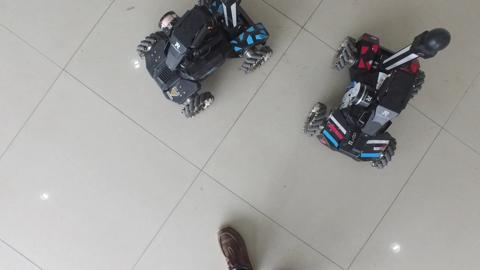chariot: (304, 22, 453, 176), (136, 1, 280, 124)
